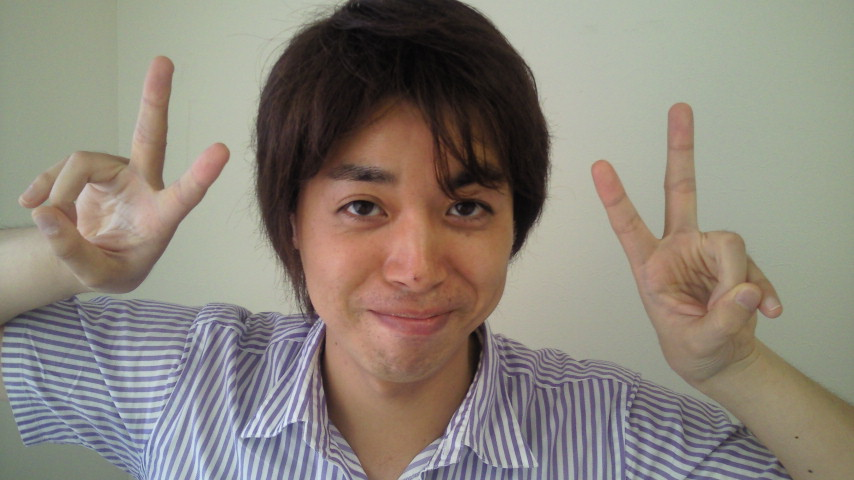face: (289, 91, 515, 384)
hand: (589, 101, 783, 384), (17, 53, 231, 294)
